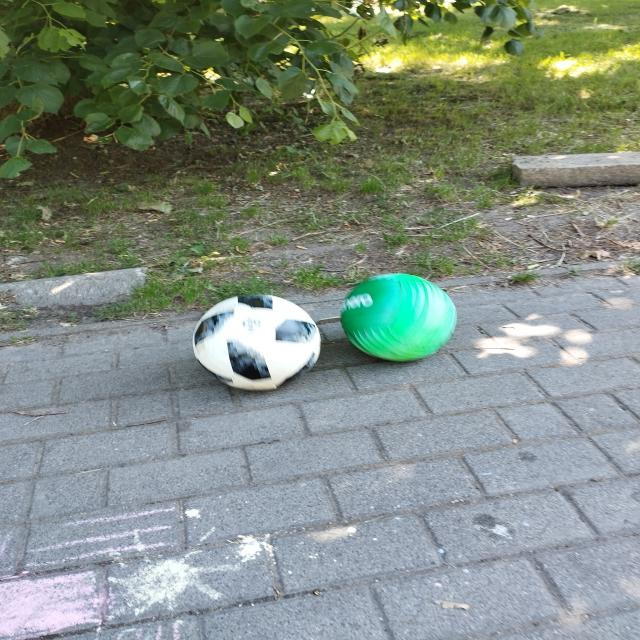nozna: (192, 294, 322, 391)
zielona: (341, 273, 458, 362)
